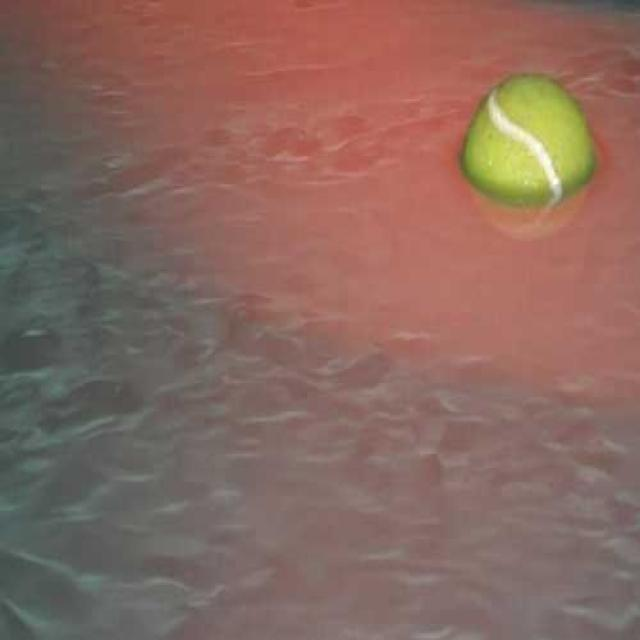Tennis_Ball: (466, 63, 592, 207)
